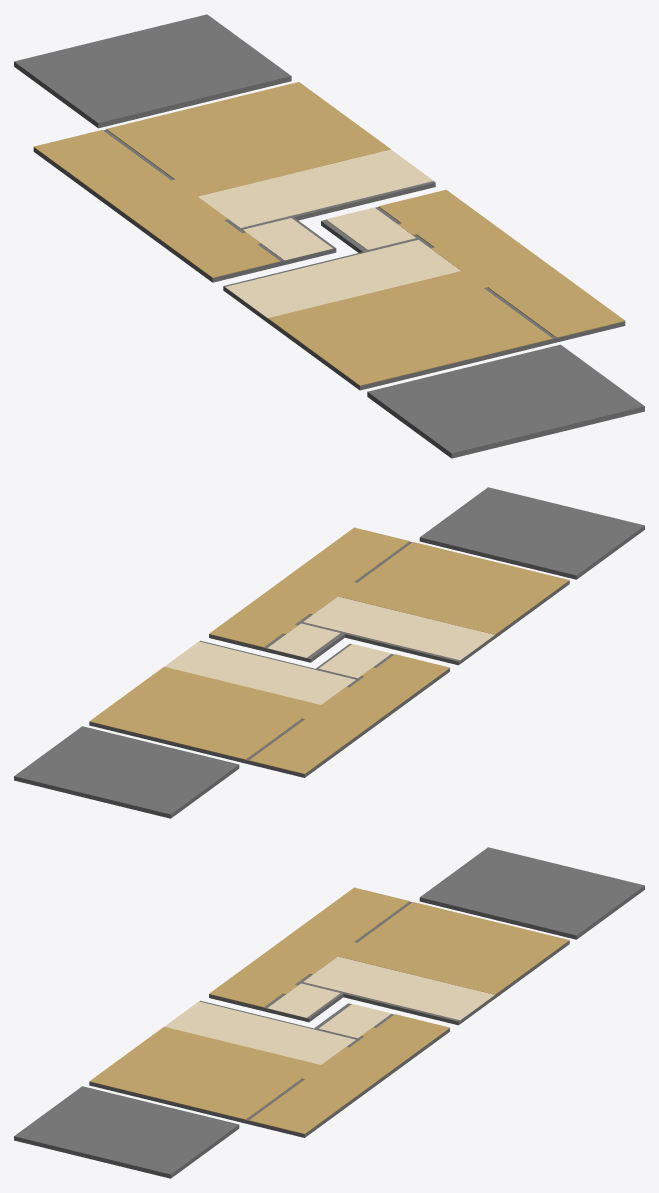
The model's file is Duplex_Level_1_IfcSlab.dae.
The picture shows the model from 3 angles, top to bottom: view 1: azimuth 30°, elevation 25°; view 2: azimuth 150°, elevation 25°; view 3: azimuth 330°, elevation 25°; orthographic projection. The views are drawn at different scales.
Parts seen in each view (by area): view 1: 2OBrcmyk58NupXoVOHUtxr, 2OBrcmyk58NupXoVOHUtgP, 1CZILmCaHETO8tf3SgGEXu, 1CZILmCaHETO8tf3SgGEWh, 2OBrcmyk58NupXoVOHUten, 2OBrcmyk58NupXoVOHUtoa, 2O2Fr$t4X7Zf8NOew3FKcz, 2O2Fr$t4X7Zf8NOew3FK4F, 2OBrcmyk58NupXoVOHUtjR, 2OBrcmyk58NupXoVOHUtju; view 2: 2OBrcmyk58NupXoVOHUtgP, 2OBrcmyk58NupXoVOHUtxr, 1CZILmCaHETO8tf3SgGEXu, 1CZILmCaHETO8tf3SgGEWh, 2OBrcmyk58NupXoVOHUtoa, 2OBrcmyk58NupXoVOHUten, 2O2Fr$t4X7Zf8NOew3FKcz, 2O2Fr$t4X7Zf8NOew3FK4F, 2OBrcmyk58NupXoVOHUtjR, 2OBrcmyk58NupXoVOHUtju; view 3: 2OBrcmyk58NupXoVOHUtxr, 2OBrcmyk58NupXoVOHUtgP, 1CZILmCaHETO8tf3SgGEXu, 1CZILmCaHETO8tf3SgGEWh, 2OBrcmyk58NupXoVOHUten, 2OBrcmyk58NupXoVOHUtoa, 2O2Fr$t4X7Zf8NOew3FKcz, 2O2Fr$t4X7Zf8NOew3FK4F, 2OBrcmyk58NupXoVOHUtju, 2OBrcmyk58NupXoVOHUtjR.
Boxes of the visible parts, bbox=[...] form: 2OBrcmyk58NupXoVOHUtxr: bbox=[268, 189, 624, 385]; 2OBrcmyk58NupXoVOHUtgP: bbox=[34, 82, 390, 278]; 1CZILmCaHETO8tf3SgGEXu: bbox=[367, 344, 644, 458]; 1CZILmCaHETO8tf3SgGEWh: bbox=[14, 14, 291, 128]; 2OBrcmyk58NupXoVOHUten: bbox=[198, 149, 433, 228]; 2OBrcmyk58NupXoVOHUtoa: bbox=[225, 240, 460, 318]; 2O2Fr$t4X7Zf8NOew3FKcz: bbox=[223, 207, 625, 390]; 2O2Fr$t4X7Zf8NOew3FK4F: bbox=[33, 129, 435, 282]; 2OBrcmyk58NupXoVOHUtjR: bbox=[326, 207, 415, 249]; 2OBrcmyk58NupXoVOHUtju: bbox=[243, 218, 332, 260]; 2OBrcmyk58NupXoVOHUtgP: bbox=[89, 654, 449, 774]; 2OBrcmyk58NupXoVOHUtxr: bbox=[209, 527, 569, 647]; 1CZILmCaHETO8tf3SgGEXu: bbox=[419, 487, 644, 579]; 1CZILmCaHETO8tf3SgGEWh: bbox=[14, 726, 239, 818]; 2OBrcmyk58NupXoVOHUtoa: bbox=[303, 596, 494, 660]; 2OBrcmyk58NupXoVOHUten: bbox=[164, 641, 355, 704]; 2O2Fr$t4X7Zf8NOew3FKcz: bbox=[209, 541, 569, 665]; 2O2Fr$t4X7Zf8NOew3FK4F: bbox=[89, 640, 449, 777]; 2OBrcmyk58NupXoVOHUtjR: bbox=[267, 623, 340, 657]; 2OBrcmyk58NupXoVOHUtju: bbox=[318, 644, 391, 678]; 2OBrcmyk58NupXoVOHUtxr: bbox=[89, 1014, 449, 1134]; 2OBrcmyk58NupXoVOHUtgP: bbox=[209, 887, 569, 1007]; 1CZILmCaHETO8tf3SgGEXu: bbox=[14, 1086, 239, 1178]; 1CZILmCaHETO8tf3SgGEWh: bbox=[419, 847, 644, 939]; 2OBrcmyk58NupXoVOHUten: bbox=[303, 956, 494, 1020]; 2OBrcmyk58NupXoVOHUtoa: bbox=[164, 1001, 355, 1064]; 2O2Fr$t4X7Zf8NOew3FKcz: bbox=[89, 1000, 449, 1137]; 2O2Fr$t4X7Zf8NOew3FK4F: bbox=[209, 901, 569, 1025]; 2OBrcmyk58NupXoVOHUtju: bbox=[267, 983, 340, 1017]; 2OBrcmyk58NupXoVOHUtjR: bbox=[318, 1004, 391, 1038].
Size of the model in its own units: 8 by 26.57 by 0.156.
